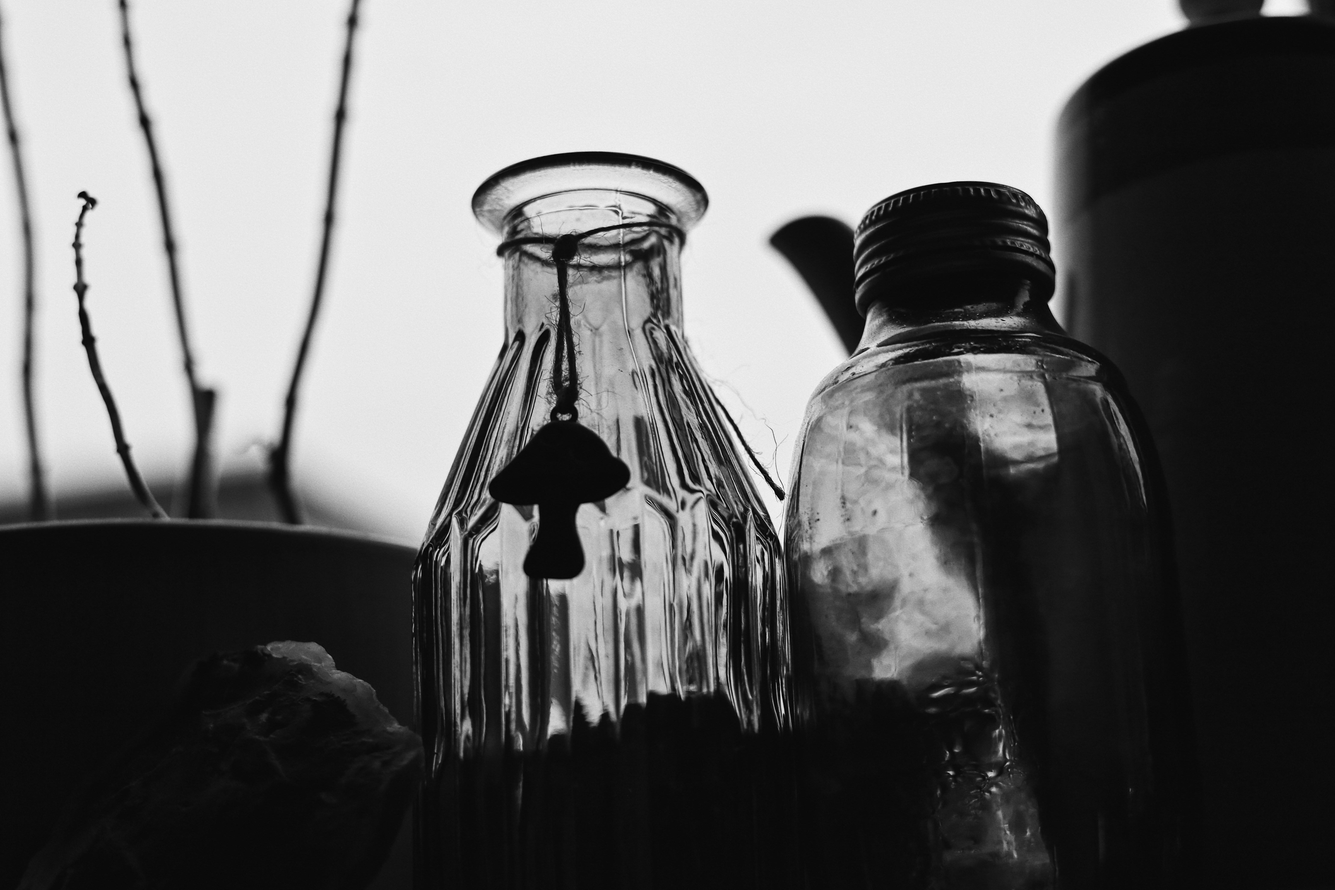Bottle-Detection: (381, 105, 800, 886), (809, 152, 1232, 886)
